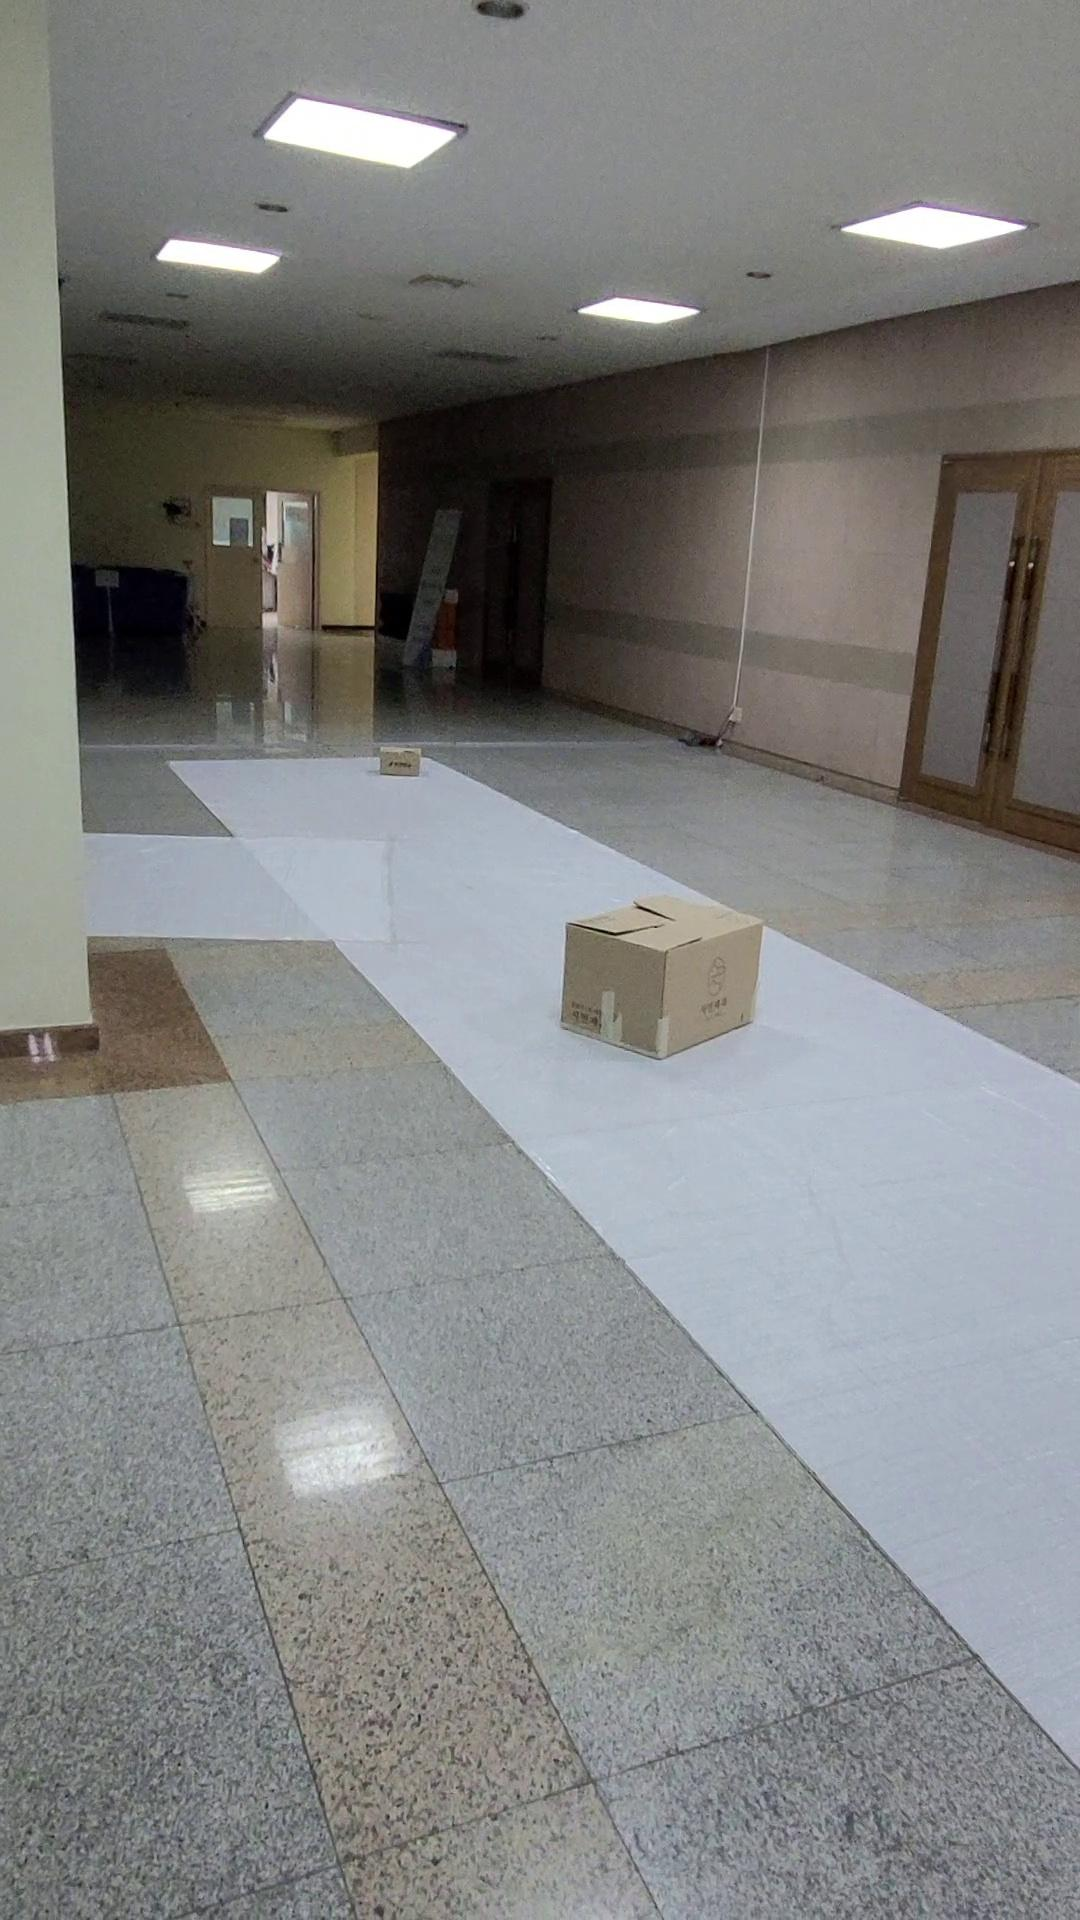Box: (521, 845, 796, 1077), (381, 731, 444, 781)
